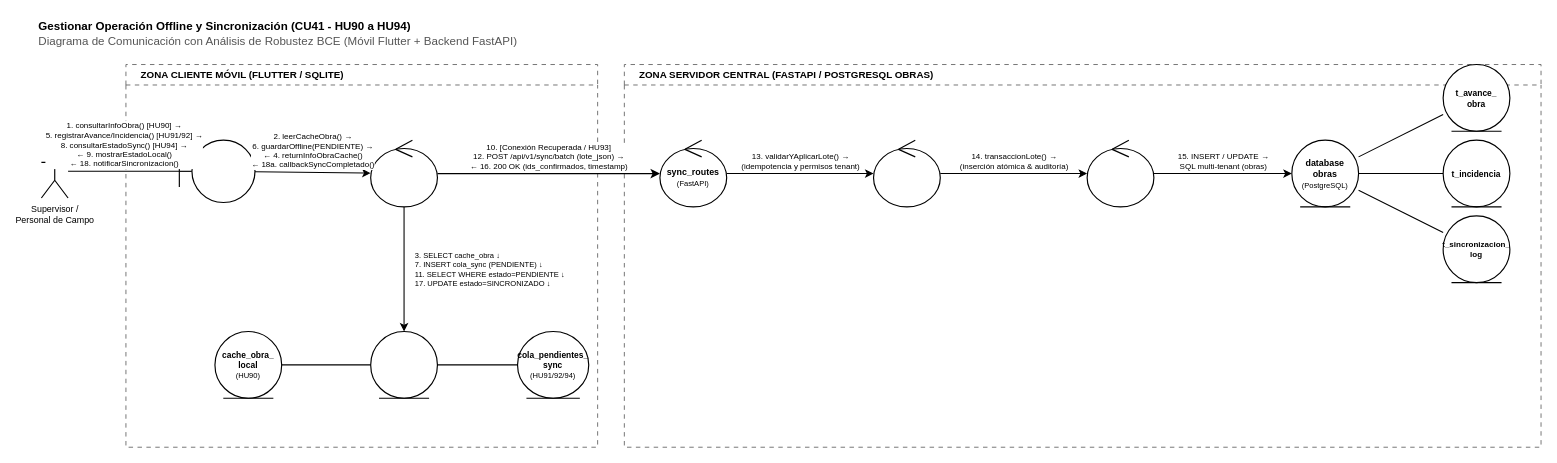
Some shapes in this 1557 by 463 pixel diagram are drawn without their labels. The centre of each missing label's shape, as x and y in pixels:
IU_operacion_ offline: [216,171]
sqlite_local_db (Móvil): [404,364]
sync_manager (Móvil): [404,173]
sync_repos (PostgreSQL): [1120,173]
sync_services (Lógica / Resolve): [906,173]
